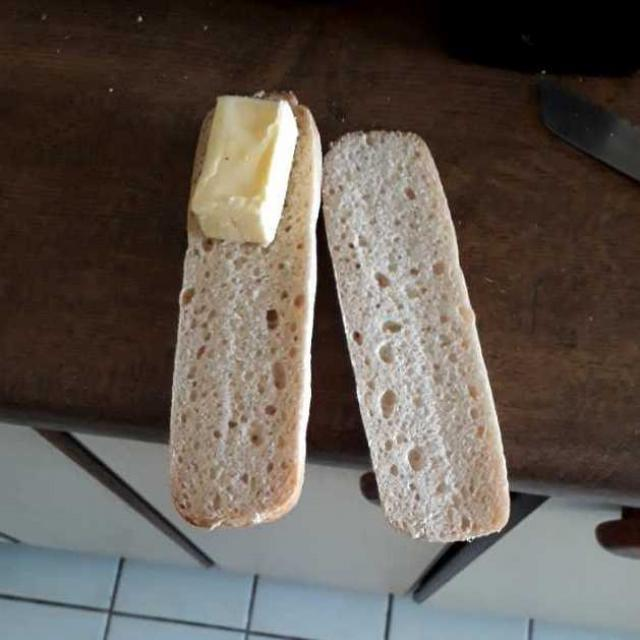bread: (169, 102, 516, 562), (174, 96, 516, 546)
butter: (167, 101, 321, 248), (194, 83, 316, 254)
